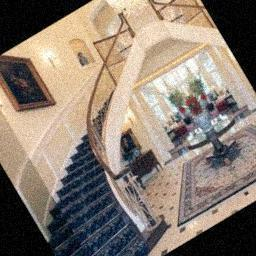Escaleras: (0, 28, 231, 256)
